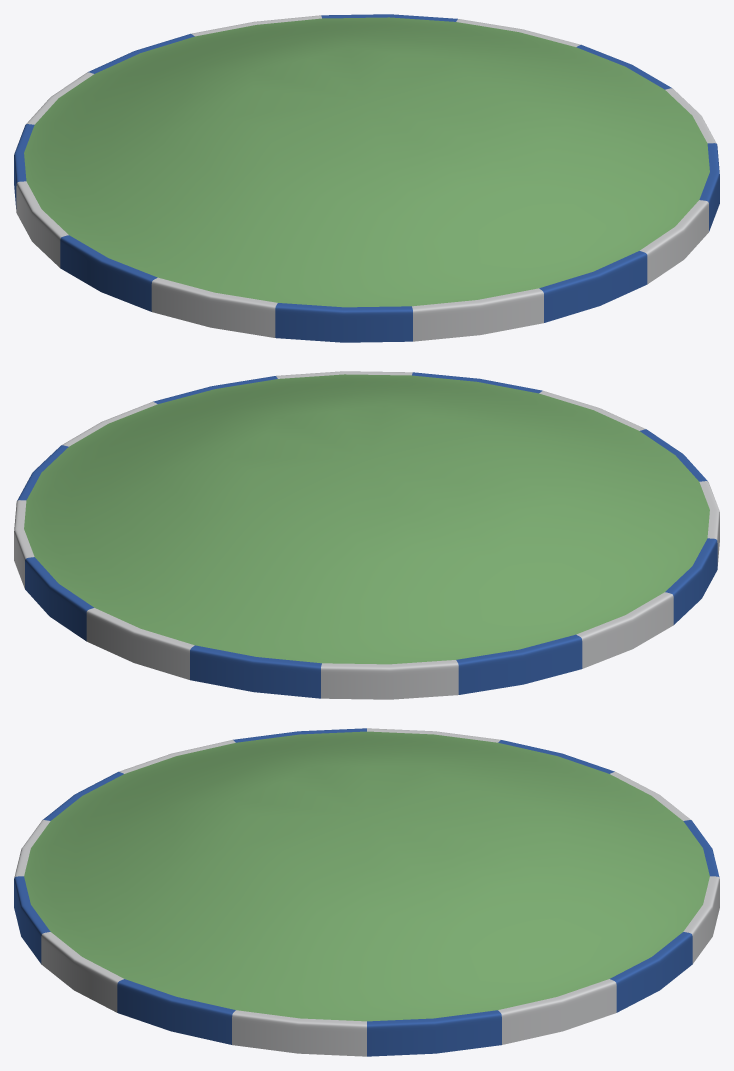
File: Arena.fbx
The picture shows the model from 3 angles, top to bottom: view 1: azimuth 30°, elevation 25°; view 2: azimuth 150°, elevation 25°; view 3: azimuth 270°, elevation 25°; orthographic projection.
Parts seen in each view (by area): view 1: polySurface1, polySurface2; view 2: polySurface1, polySurface2; view 3: polySurface1, polySurface2.
Part boxes in pixels (x1,y1,x2,y2): polySurface1: (24, 17, 709, 307); polySurface2: (14, 14, 719, 342); polySurface1: (24, 374, 709, 664); polySurface2: (14, 371, 719, 699); polySurface1: (24, 731, 709, 1021); polySurface2: (14, 728, 719, 1056).
Size of the model in its own units: 20.83 by 2.96 by 20.83.
